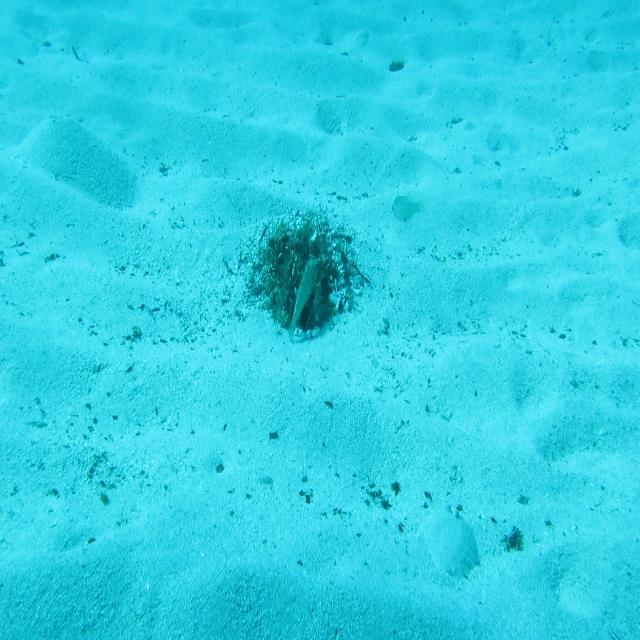LF: (290, 246, 326, 337)
female: (386, 186, 426, 225)
nest: (240, 206, 374, 348)
